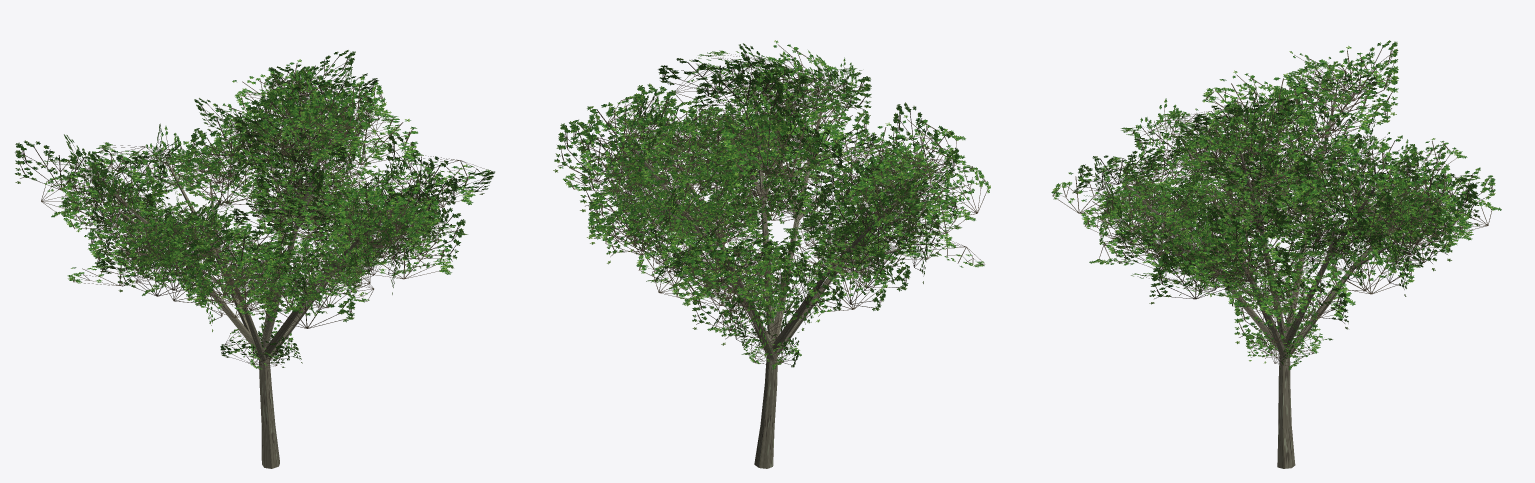
The model's file is pohon_ketapang_kencana_instanced.glb.
The picture shows the model from 3 angles, left to right: view 1: azimuth 30°, elevation 25°; view 2: azimuth 150°, elevation 25°; view 3: azimuth 270°, elevation 25°; orthographic projection. The views are drawn at different scales.
Parts seen in each view (by area): view 1: Pohon_Ketapang_Kencana; view 2: Pohon_Ketapang_Kencana; view 3: Pohon_Ketapang_Kencana.
Boxes of the visible parts, box(x1,y1,x2,y2) form: Pohon_Ketapang_Kencana: box(15, 50, 494, 468); Pohon_Ketapang_Kencana: box(553, 40, 990, 468); Pohon_Ketapang_Kencana: box(1051, 40, 1501, 468).
Size of the model in its own units: 8.42 by 7.6 by 8.25.
Materials: 1 (1 with a texture image).
